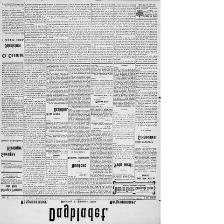news_paper: (0, 0, 160, 223)
